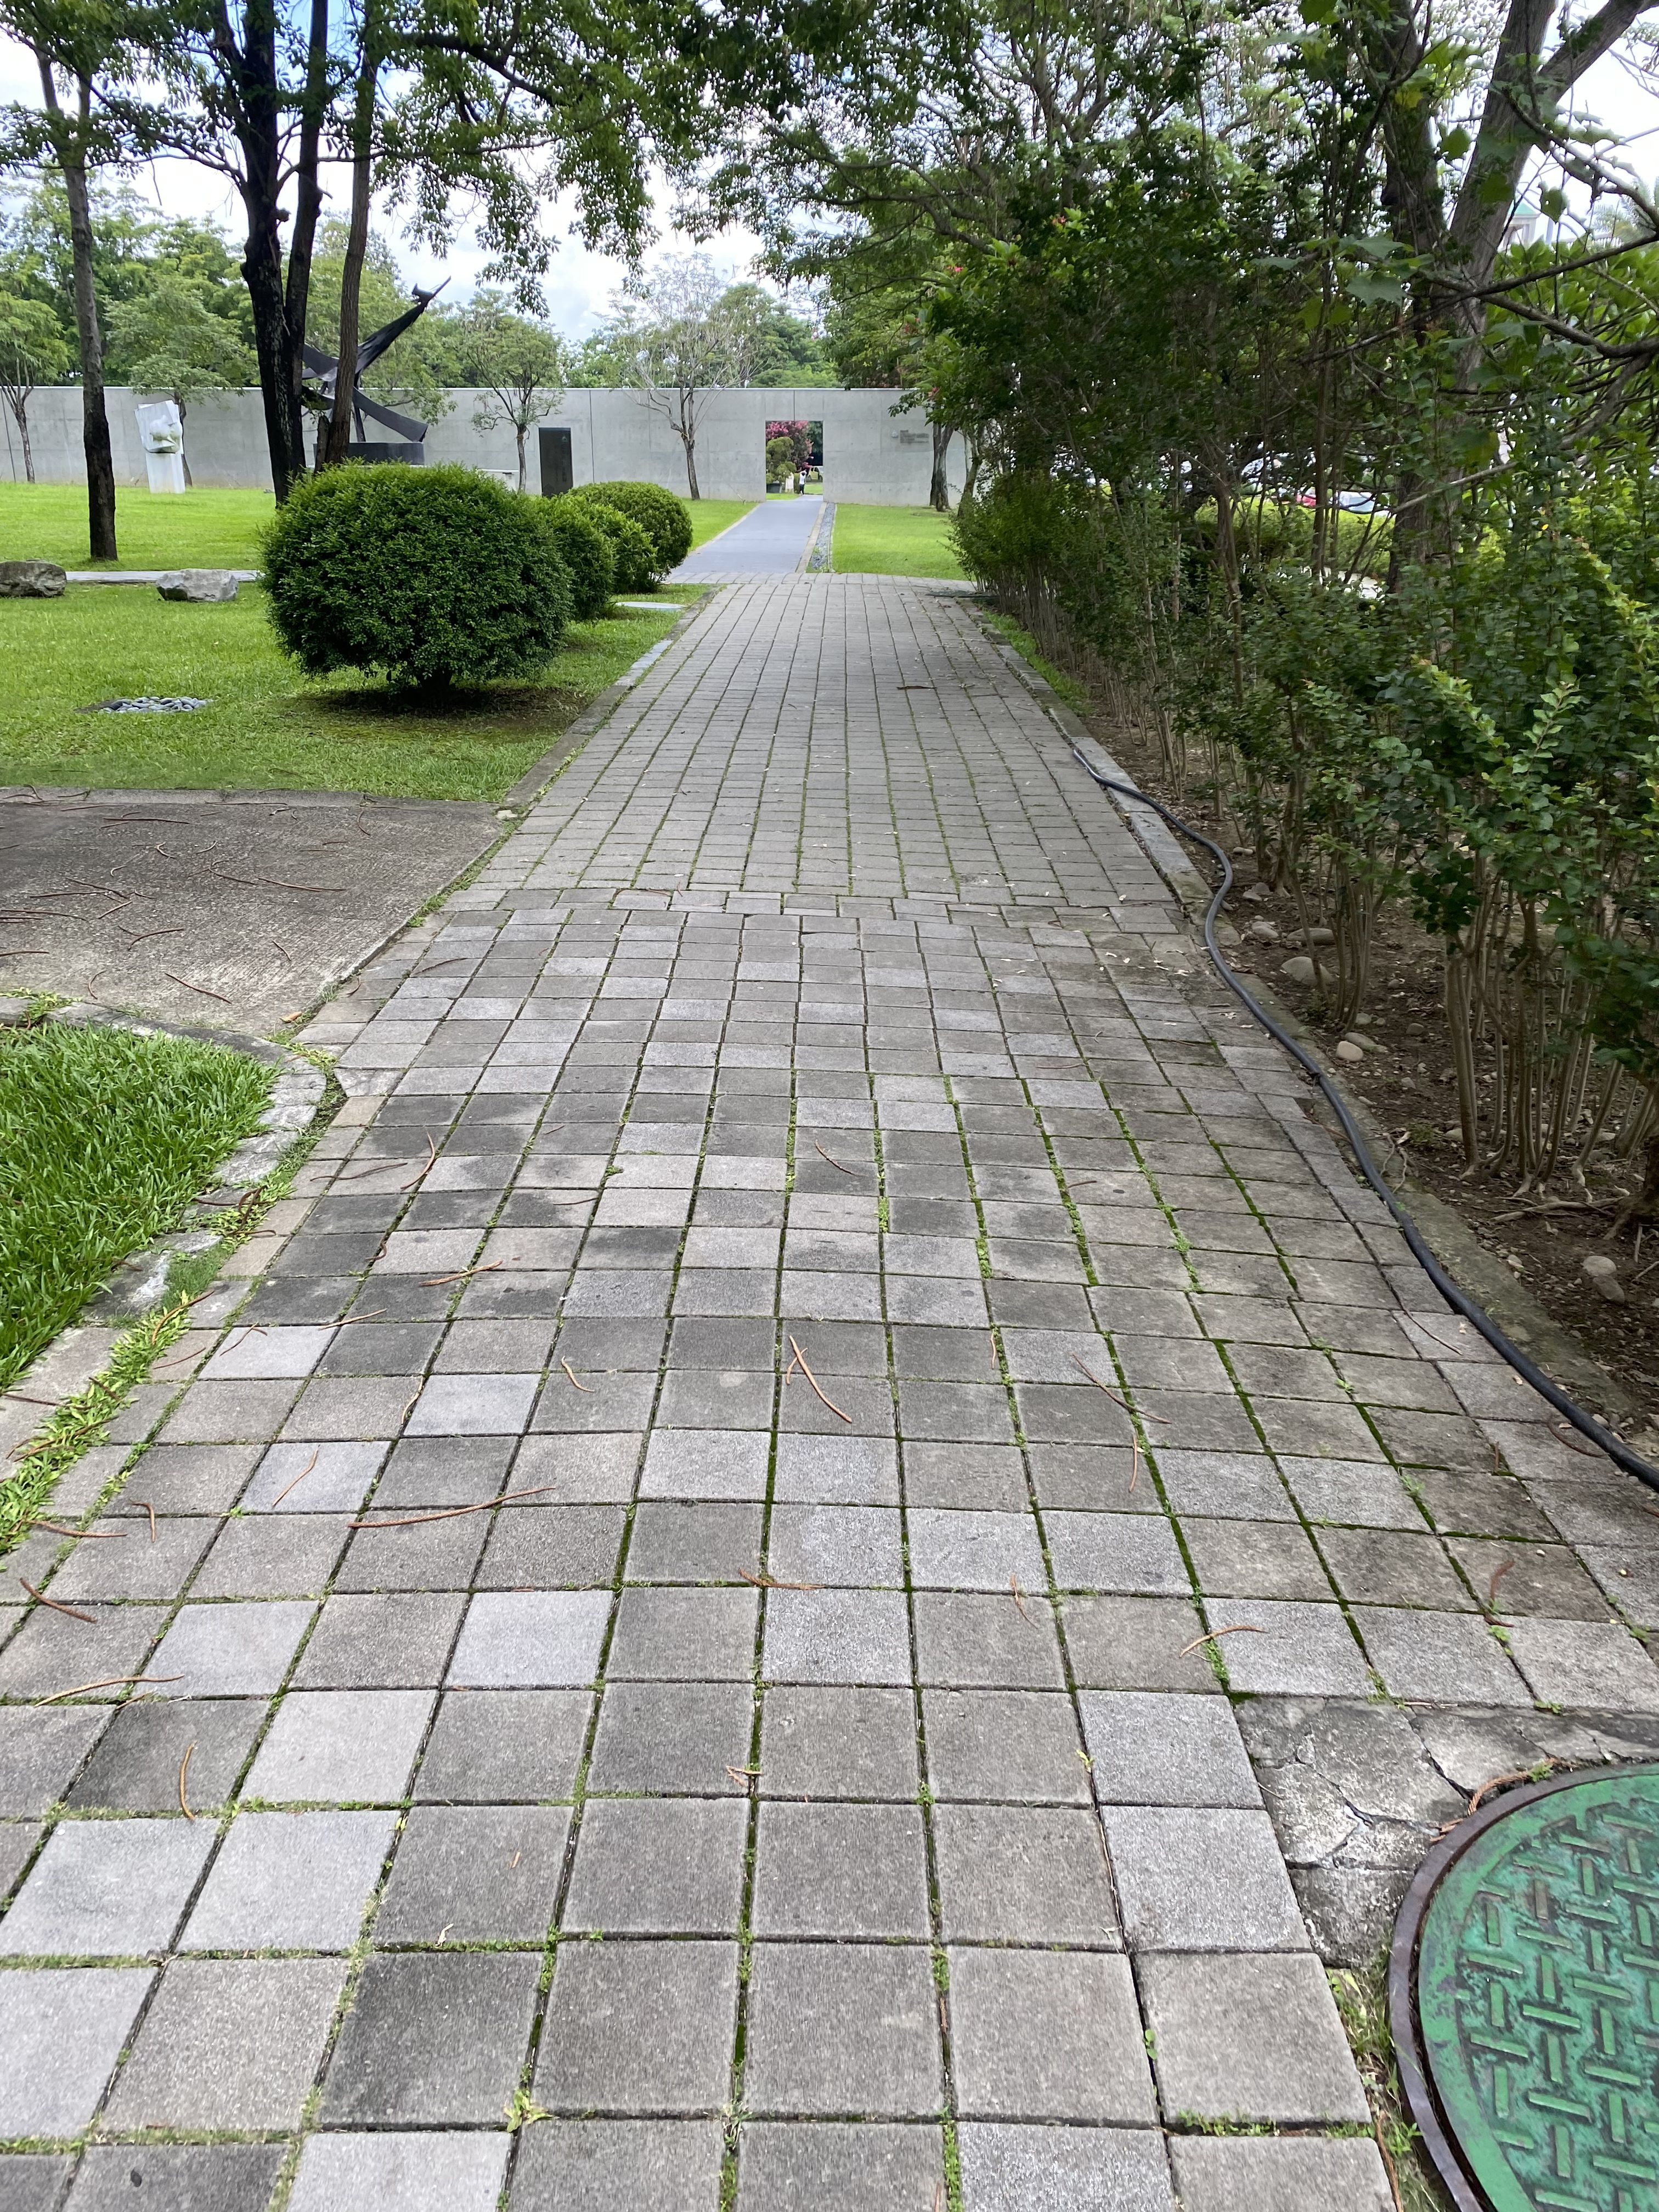0: (538, 474, 1150, 798)
sidewalk: (5, 791, 1659, 2207)
